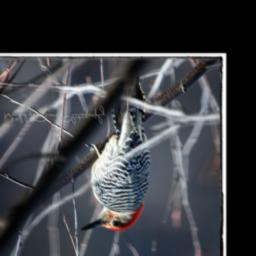Woodpecker: (76, 101, 154, 239)
